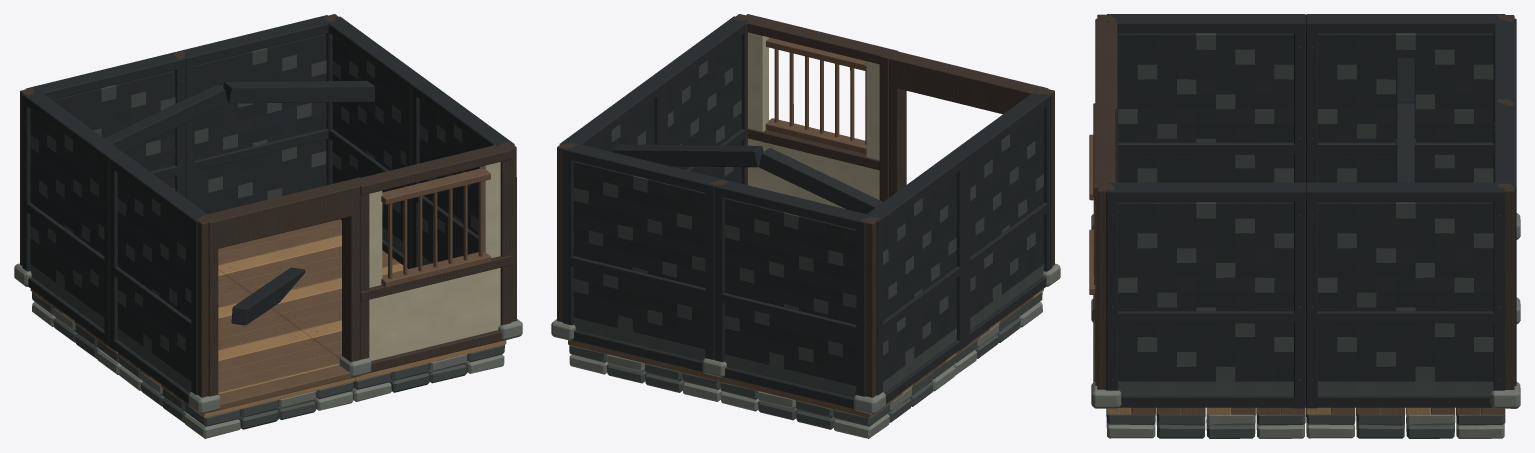
The model's file is Assembly_BurntDojo.glb.
The picture shows the model from 3 angles, left to right: view 1: azimuth 30°, elevation 25°; view 2: azimuth 150°, elevation 25°; view 3: azimuth 270°, elevation 25°; orthographic projection. The views are drawn at different scales.
Visible parts, largest first — view 1: Example__AR_Wall_Window_2m.001, Example__AR_Wall_Burnt_2m.001, Example__AR_Wall_Burnt_2m.002, Example__AR_Wall_Burnt_2m.003, Example__AR_DoorFrame_2m.001, Example__AR_Wall_Burnt_2m.005, Example__AR_Wall_Burnt_2m, Example__AR_Wall_Burnt_2m.004, Example__AR_Floor_Plank_2m.004, Example__AR_Floor_Plank_2m.007, Example__AR_StoneFoundation_2m.004, Example__AR_Floor_Plank_2m.006 (+10 smaller); view 2: Example__AR_Wall_Burnt_2m, Example__AR_Wall_Burnt_2m.001, Example__AR_Wall_Burnt_2m.003, Example__AR_Wall_Burnt_2m.002, Example__AR_Wall_Window_2m.001, Example__AR_Wall_Burnt_2m.004, Example__AR_DoorFrame_2m.001, Example__AR_StoneFoundation_2m.005, Example__AR_Wall_Burnt_2m.005, Example__AR_StoneFoundation_2m.007, Example__AR_Beam_Burnt_2m.001, Example__AR_Beam_Burnt_2m (+6 smaller); view 3: Example__AR_Wall_Burnt_2m.005, Example__AR_Wall_Burnt_2m.004, Example__AR_Wall_Burnt_2m.002, Example__AR_Wall_Burnt_2m.003, Example__AR_StoneFoundation_2m.006, Example__AR_StoneFoundation_2m.007, Example__AR_Wall_Window_2m.001, Example__AR_Post_2p4m.010, Example__AR_Post_2p4m.011, Example__AR_Wall_Burnt_2m.001, Example__AR_Wall_Burnt_2m, Example__AR_DoorFrame_2m.001 (+4 smaller).
Part boxes in pixels (<box>): Example__AR_Wall_Window_2m.001: <box>351,144,511,372</box>; Example__AR_Wall_Burnt_2m.001: <box>177,15,335,213</box>; Example__AR_Wall_Burnt_2m.002: <box>109,154,211,403</box>; Example__AR_Wall_Burnt_2m.003: <box>22,90,124,346</box>; Example__AR_DoorFrame_2m.001: <box>201,179,360,412</box>; Example__AR_Wall_Burnt_2m.005: <box>327,16,426,268</box>; Example__AR_Wall_Burnt_2m: <box>26,52,185,197</box>; Example__AR_Wall_Burnt_2m.004: <box>411,80,514,268</box>; Example__AR_Floor_Plank_2m.004: <box>118,308,354,417</box>; Example__AR_Floor_Plank_2m.007: <box>218,219,407,303</box>; Example__AR_StoneFoundation_2m.004: <box>119,356,353,438</box>; Example__AR_Floor_Plank_2m.006: <box>271,288,506,380</box>; Example__AR_Wall_Burnt_2m: <box>714,179,872,408</box>; Example__AR_Wall_Burnt_2m.001: <box>563,142,722,371</box>; Example__AR_Wall_Burnt_2m.003: <box>867,154,964,403</box>; Example__AR_Wall_Burnt_2m.002: <box>949,90,1052,346</box>; Example__AR_Wall_Window_2m.001: <box>744,14,898,208</box>; Example__AR_Wall_Burnt_2m.004: <box>647,16,748,184</box>; Example__AR_DoorFrame_2m.001: <box>889,51,1048,197</box>; Example__AR_StoneFoundation_2m.005: <box>720,356,955,438</box>; Example__AR_Wall_Burnt_2m.005: <box>559,80,662,151</box>; Example__AR_StoneFoundation_2m.007: <box>569,345,722,401</box>; Example__AR_Beam_Burnt_2m.001: <box>612,144,763,167</box>; Example__AR_Beam_Burnt_2m: <box>759,148,882,213</box>; Example__AR_Wall_Burnt_2m.005: <box>1306,182,1505,408</box>; Example__AR_Wall_Burnt_2m.004: <box>1106,182,1305,408</box>; Example__AR_Wall_Burnt_2m.002: <box>1106,14,1305,182</box>; Example__AR_Wall_Burnt_2m.003: <box>1306,14,1505,182</box>; Example__AR_StoneFoundation_2m.006: <box>1106,407,1305,438</box>; Example__AR_StoneFoundation_2m.007: <box>1306,407,1505,438</box>; Example__AR_Wall_Window_2m.001: <box>1089,103,1117,385</box>; Example__AR_Post_2p4m.010: <box>1091,183,1121,408</box>; Example__AR_Post_2p4m.011: <box>1490,183,1520,408</box>; Example__AR_Wall_Burnt_2m.001: <box>1493,103,1516,385</box>; Example__AR_Wall_Burnt_2m: <box>1493,18,1516,125</box>; Example__AR_DoorFrame_2m.001: <box>1095,18,1117,103</box>.
Size of the model in its own units: 4.3 by 2.81 by 4.32.
8 materials, 6 textured.
